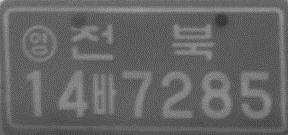1: (21, 69, 53, 118)
2: (160, 70, 194, 120)
4: (56, 71, 88, 117)
5: (239, 70, 272, 120)
7: (121, 68, 151, 117)
8: (199, 70, 232, 120)
바: (90, 72, 117, 115)
영: (21, 23, 58, 62)
전북_D: (70, 22, 215, 62)
